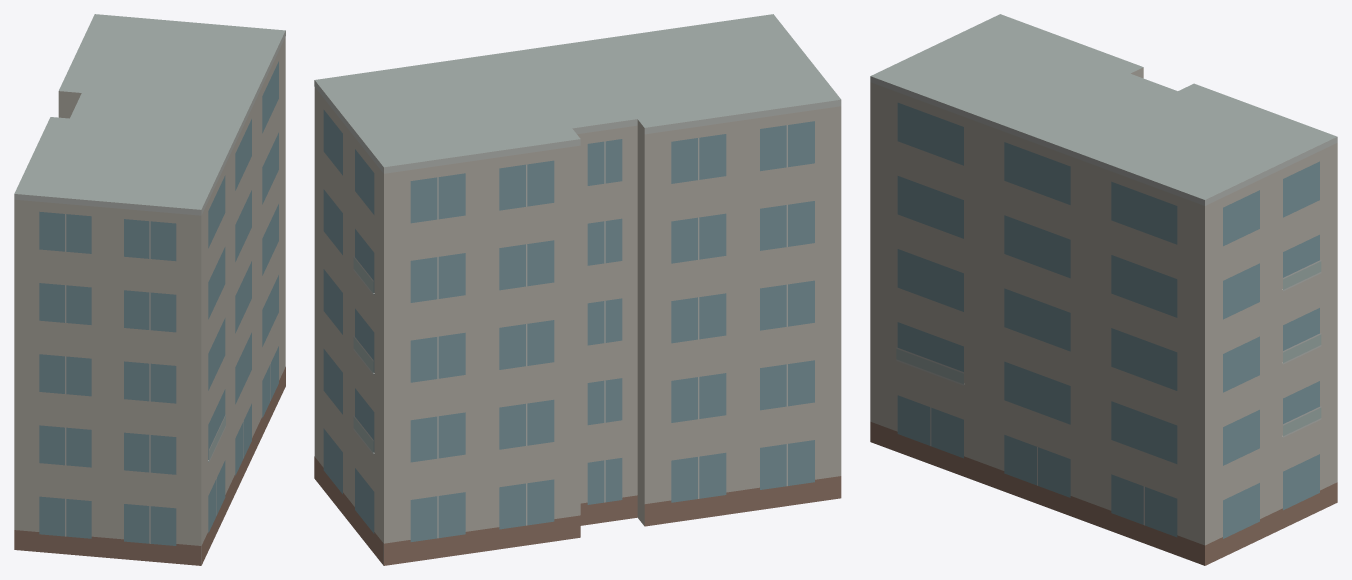
The model's file is survey-upis-33032690.glb.
The picture shows the model from 3 angles, left to right: view 1: azimuth 30°, elevation 25°; view 2: azimuth 150°, elevation 25°; view 3: azimuth 270°, elevation 25°; orthographic projection. The views are drawn at different scales.
Visible parts, largest first — view 1: survey-upis-33032690.tmp; view 2: survey-upis-33032690.tmp; view 3: survey-upis-33032690.tmp.
Part boxes in pixels (x1,y1,x2,y2): survey-upis-33032690.tmp: (14, 14, 285, 565); survey-upis-33032690.tmp: (314, 14, 841, 565); survey-upis-33032690.tmp: (870, 14, 1337, 565).
Bounding box in the file's own units: 16.31 × 14.95 × 17.31.
